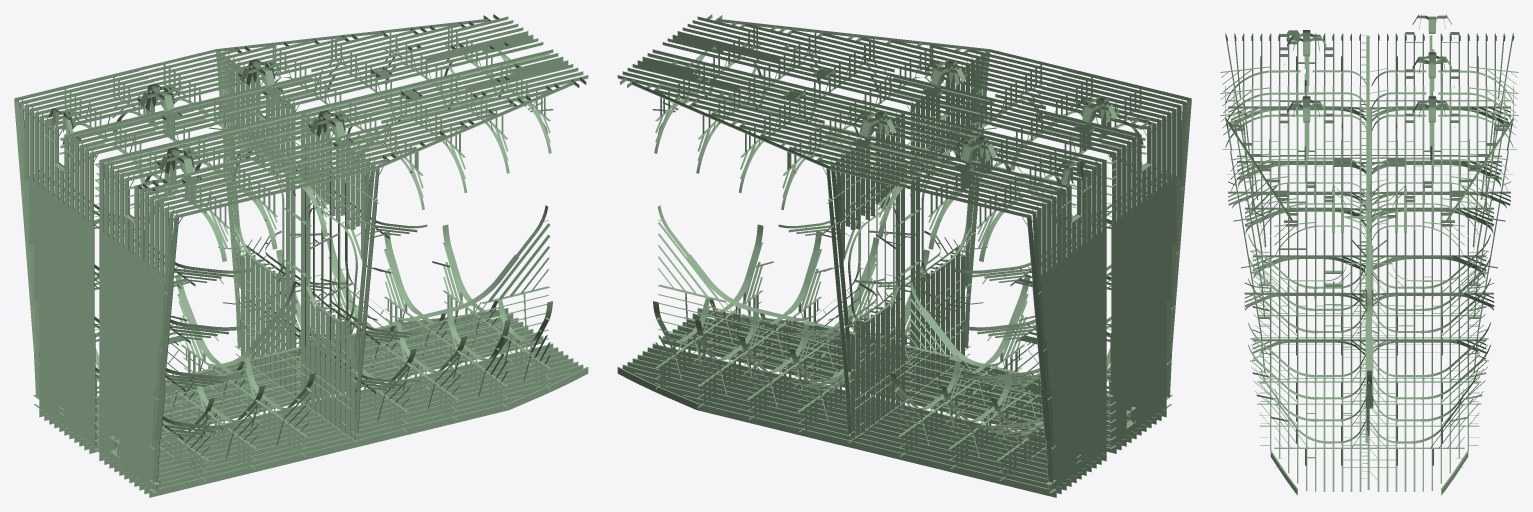
Rendered from NO_1_CENTRAL_CARGO_OIL_TK.glb.
3 renders of one model, left to right at view 1: azimuth 30°, elevation 25°; view 2: azimuth 150°, elevation 25°; view 3: azimuth 270°, elevation 25°, orthographic. The views are drawn at different scales.
Bounding box in the file's own units: 47.22 × 31.5 × 29.9.
